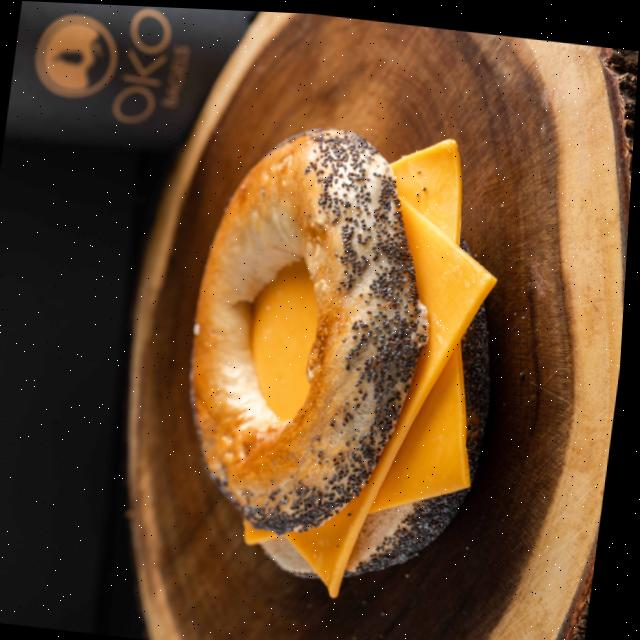Bagel: (196, 124, 433, 531)
